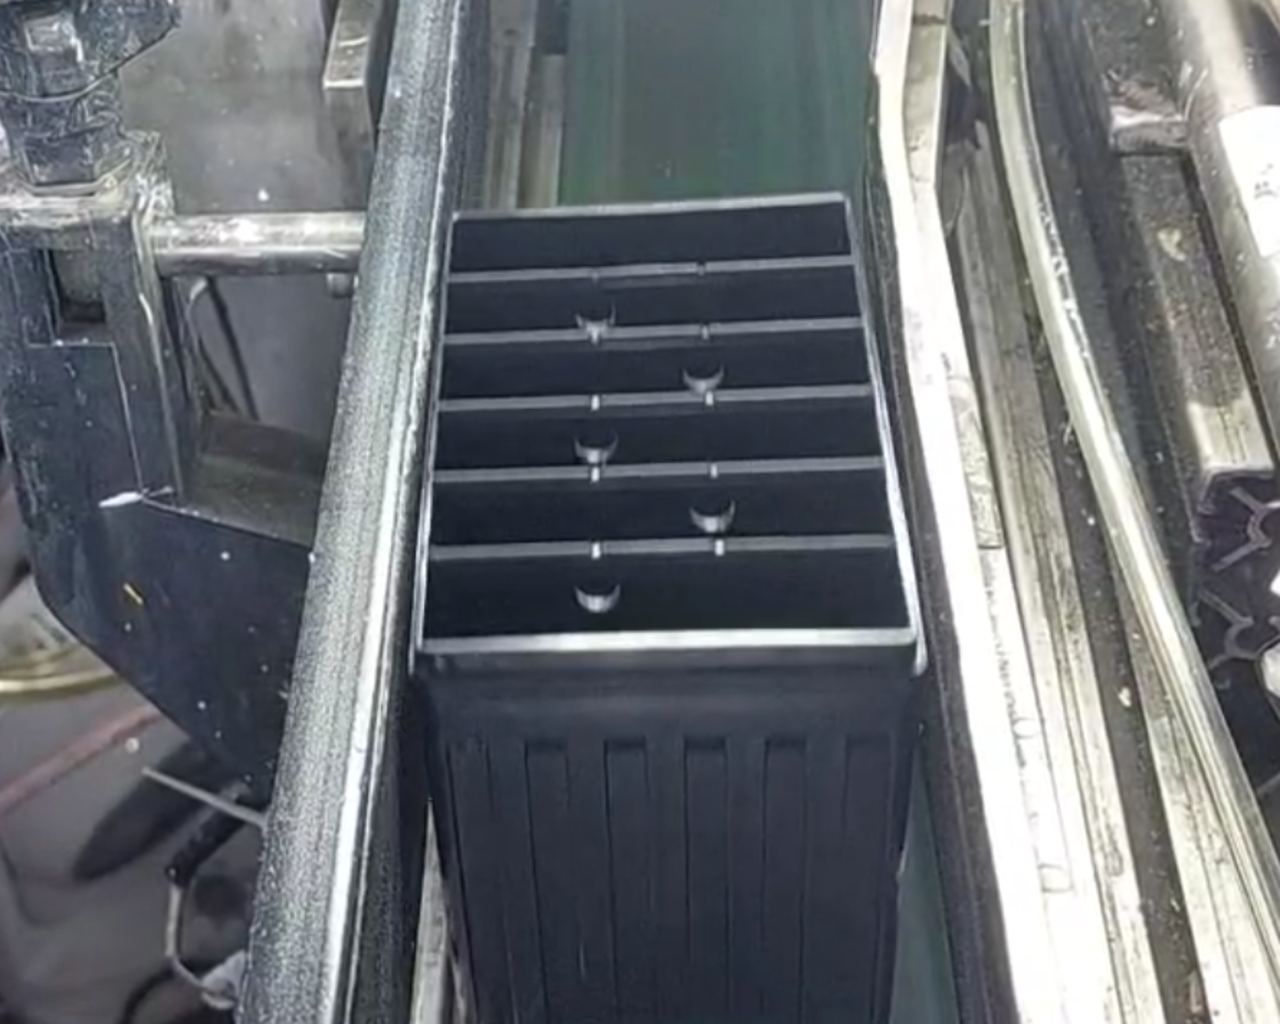box: (395, 180, 938, 696)
round: (679, 481, 745, 541), (568, 561, 628, 618), (565, 418, 624, 469), (675, 345, 731, 395), (567, 286, 621, 335)
